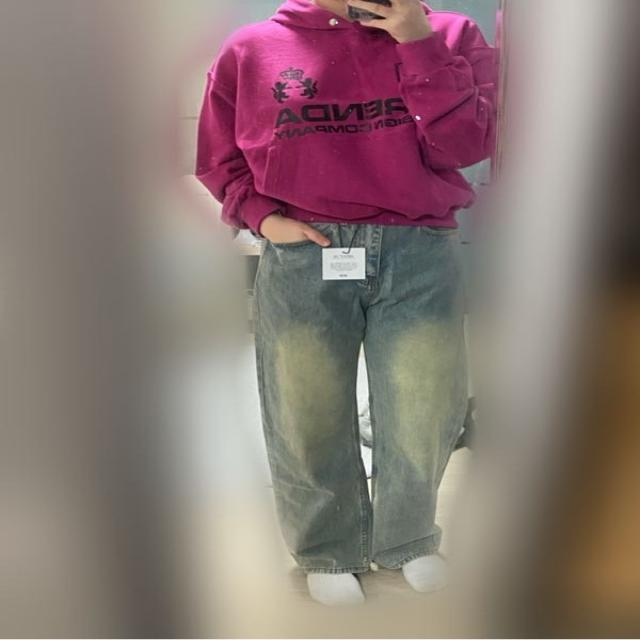denimpants: (253, 221, 472, 579)
hoodies: (193, 1, 495, 238)
